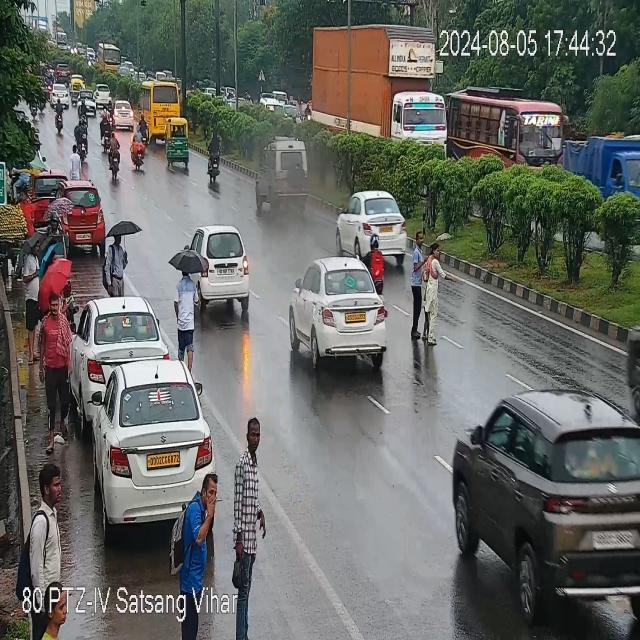2-wheelers: (368, 231, 384, 291), (52, 98, 68, 129), (130, 126, 142, 166), (77, 120, 88, 163), (109, 129, 118, 175), (100, 110, 110, 144), (139, 109, 147, 137), (79, 100, 87, 121)
auto: (165, 120, 190, 168)
bus: (442, 88, 562, 172), (138, 80, 187, 143)
car: (454, 385, 640, 631), (90, 368, 214, 530), (285, 257, 389, 371), (72, 295, 166, 400), (19, 173, 103, 245), (187, 225, 252, 311), (337, 189, 412, 261), (256, 142, 308, 220), (206, 127, 223, 180), (109, 99, 136, 128), (76, 90, 97, 116), (93, 84, 114, 108)
pedestrian: (234, 414, 260, 617), (44, 296, 72, 442), (409, 236, 446, 342), (28, 458, 67, 556), (173, 260, 201, 365), (192, 468, 220, 563), (22, 241, 39, 374), (104, 231, 128, 299), (44, 579, 66, 639), (70, 146, 82, 181), (50, 213, 60, 249), (47, 249, 57, 263)
truck: (303, 16, 449, 144), (571, 133, 640, 205)
